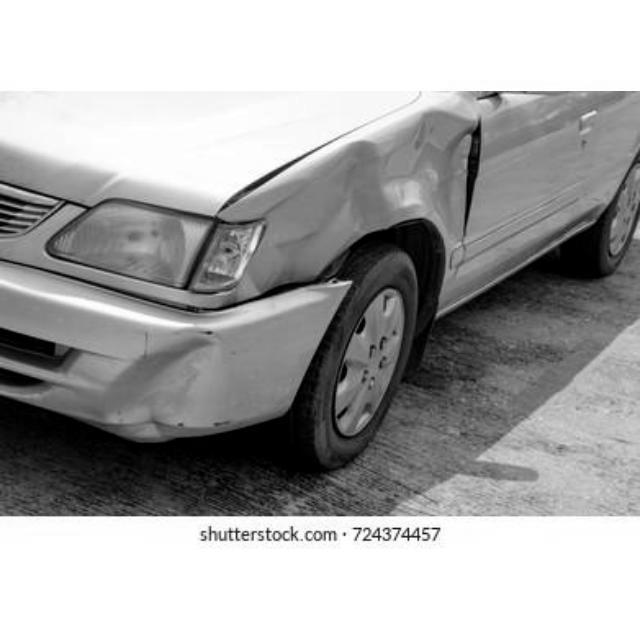fender-dent: (249, 131, 468, 288)
front-bumper-dent: (2, 294, 327, 446)
